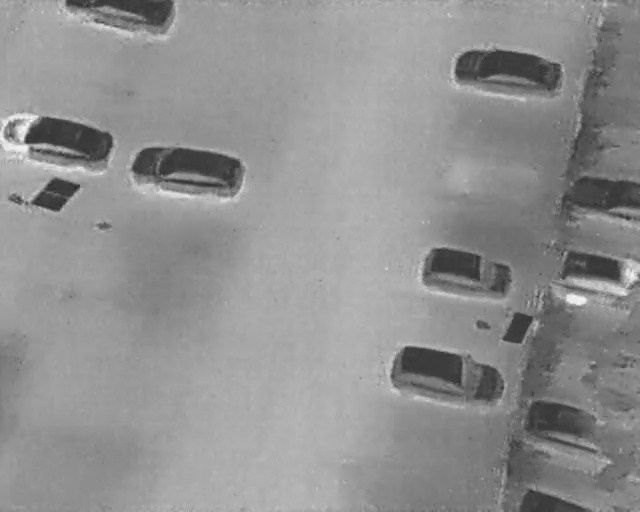Car: (381, 337, 512, 414), (516, 389, 631, 466), (127, 136, 248, 207), (446, 38, 569, 104), (0, 107, 116, 176), (415, 240, 518, 305), (60, 0, 179, 37), (553, 247, 639, 294), (564, 174, 639, 223)
